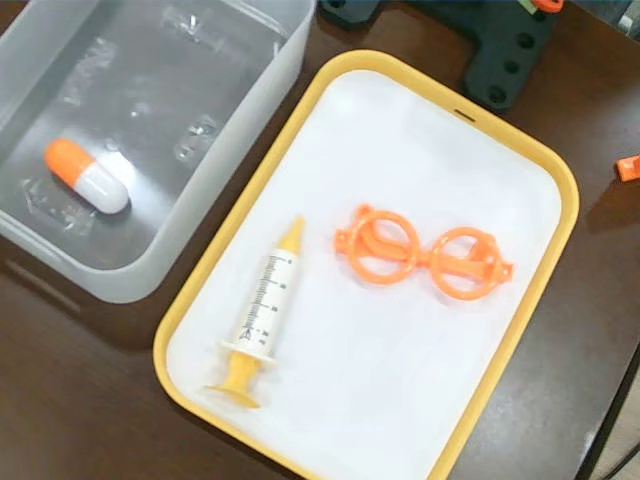pill: (40, 138, 134, 215)
syringe: (204, 214, 306, 411)
